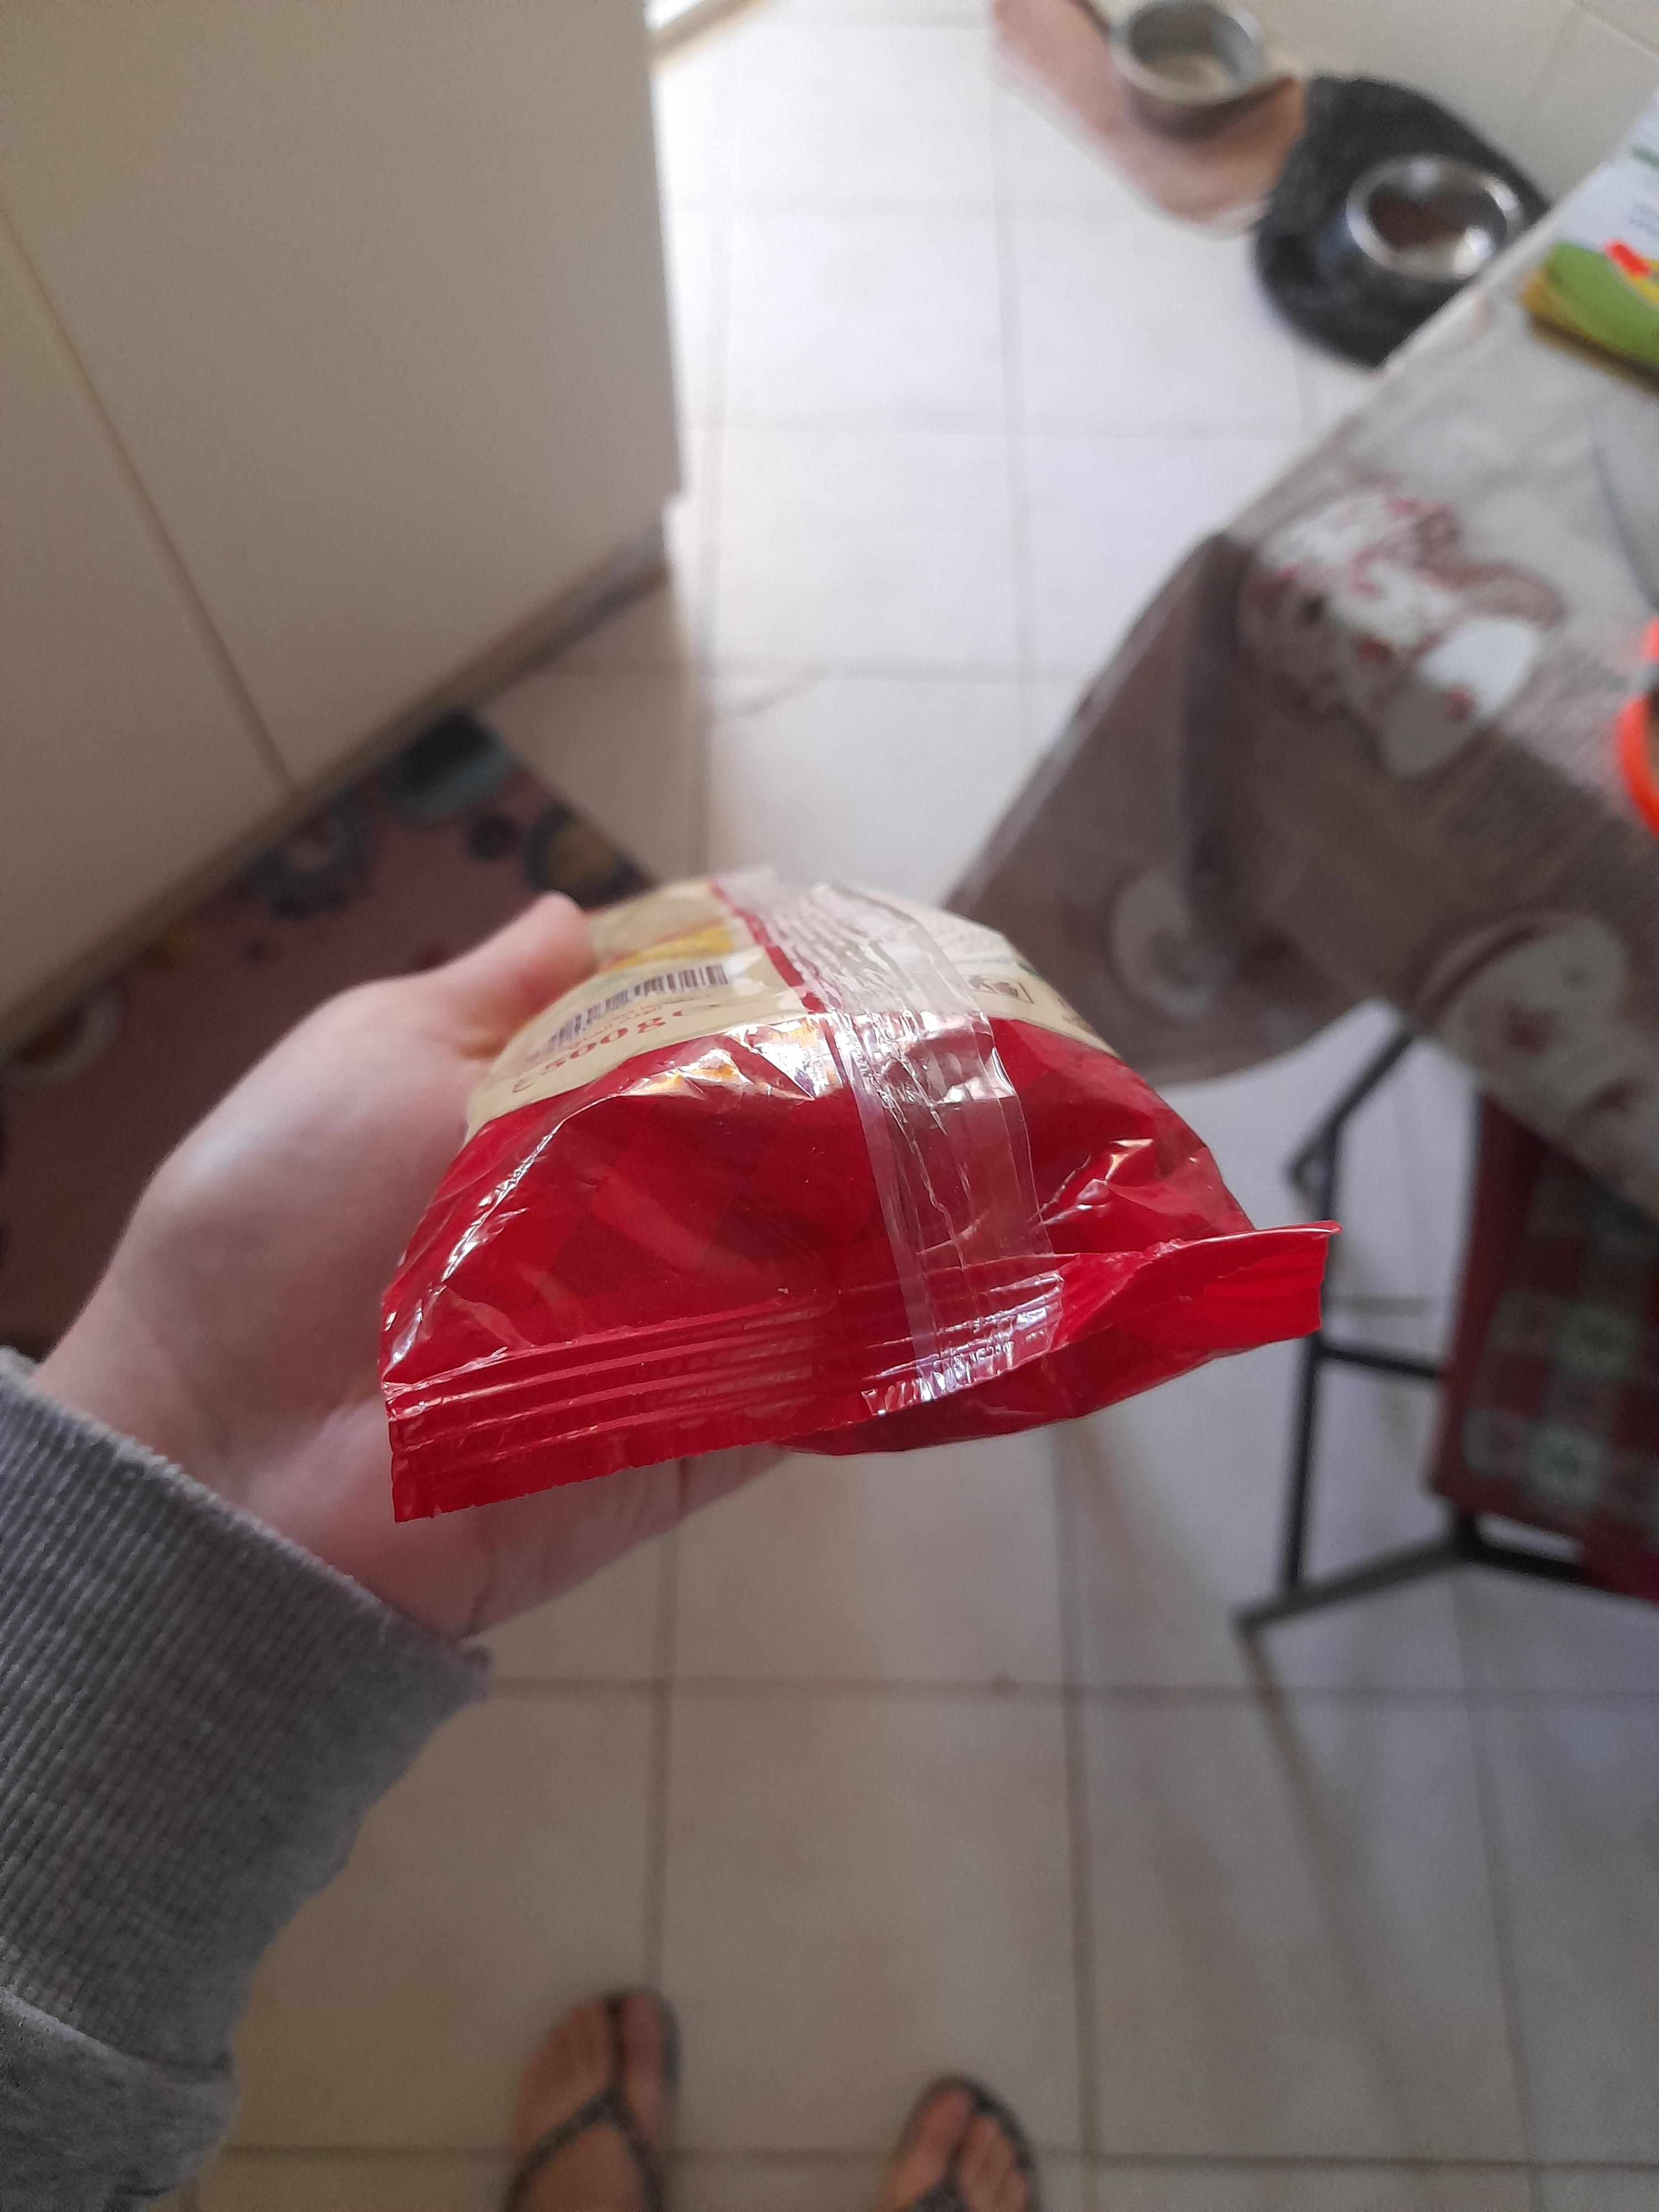Ressort: (295, 1172, 871, 1993)
Spaghetti: (295, 1202, 946, 2013)
